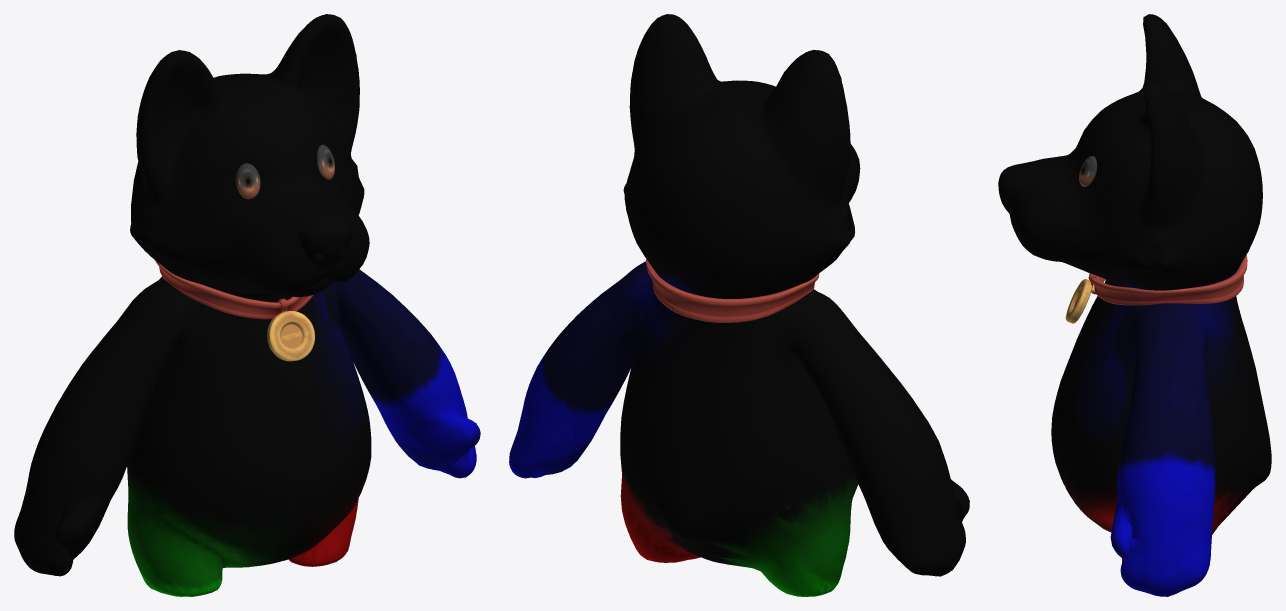
The model's file is nemo_shell_v1.glb.
The picture shows the model from 3 angles, left to right: view 1: azimuth 30°, elevation 25°; view 2: azimuth 150°, elevation 25°; view 3: azimuth 270°, elevation 25°; orthographic projection. The views are drawn at different scales.
Visible parts, largest first — view 1: Body, BoundedShellGroom, Collar, Nemo_Normal; view 2: Body, BoundedShellGroom, Collar; view 3: Body, BoundedShellGroom, Collar, Nemo_Normal.
Part boxes in pixels (x1,y1,x2,y2): Body: [14, 14, 480, 596]; BoundedShellGroom: [14, 14, 480, 596]; Collar: [155, 260, 314, 361]; Nemo_Normal: [235, 144, 334, 199]; Body: [509, 14, 969, 596]; BoundedShellGroom: [509, 14, 969, 596]; Collar: [645, 259, 819, 322]; Body: [998, 14, 1271, 596]; BoundedShellGroom: [998, 14, 1271, 596]; Collar: [1065, 255, 1247, 323]; Nemo_Normal: [1079, 156, 1096, 186].
Size of the model in its own units: 2.3 by 2.66 by 1.33.
Materials: 4 (4 with a texture image).
